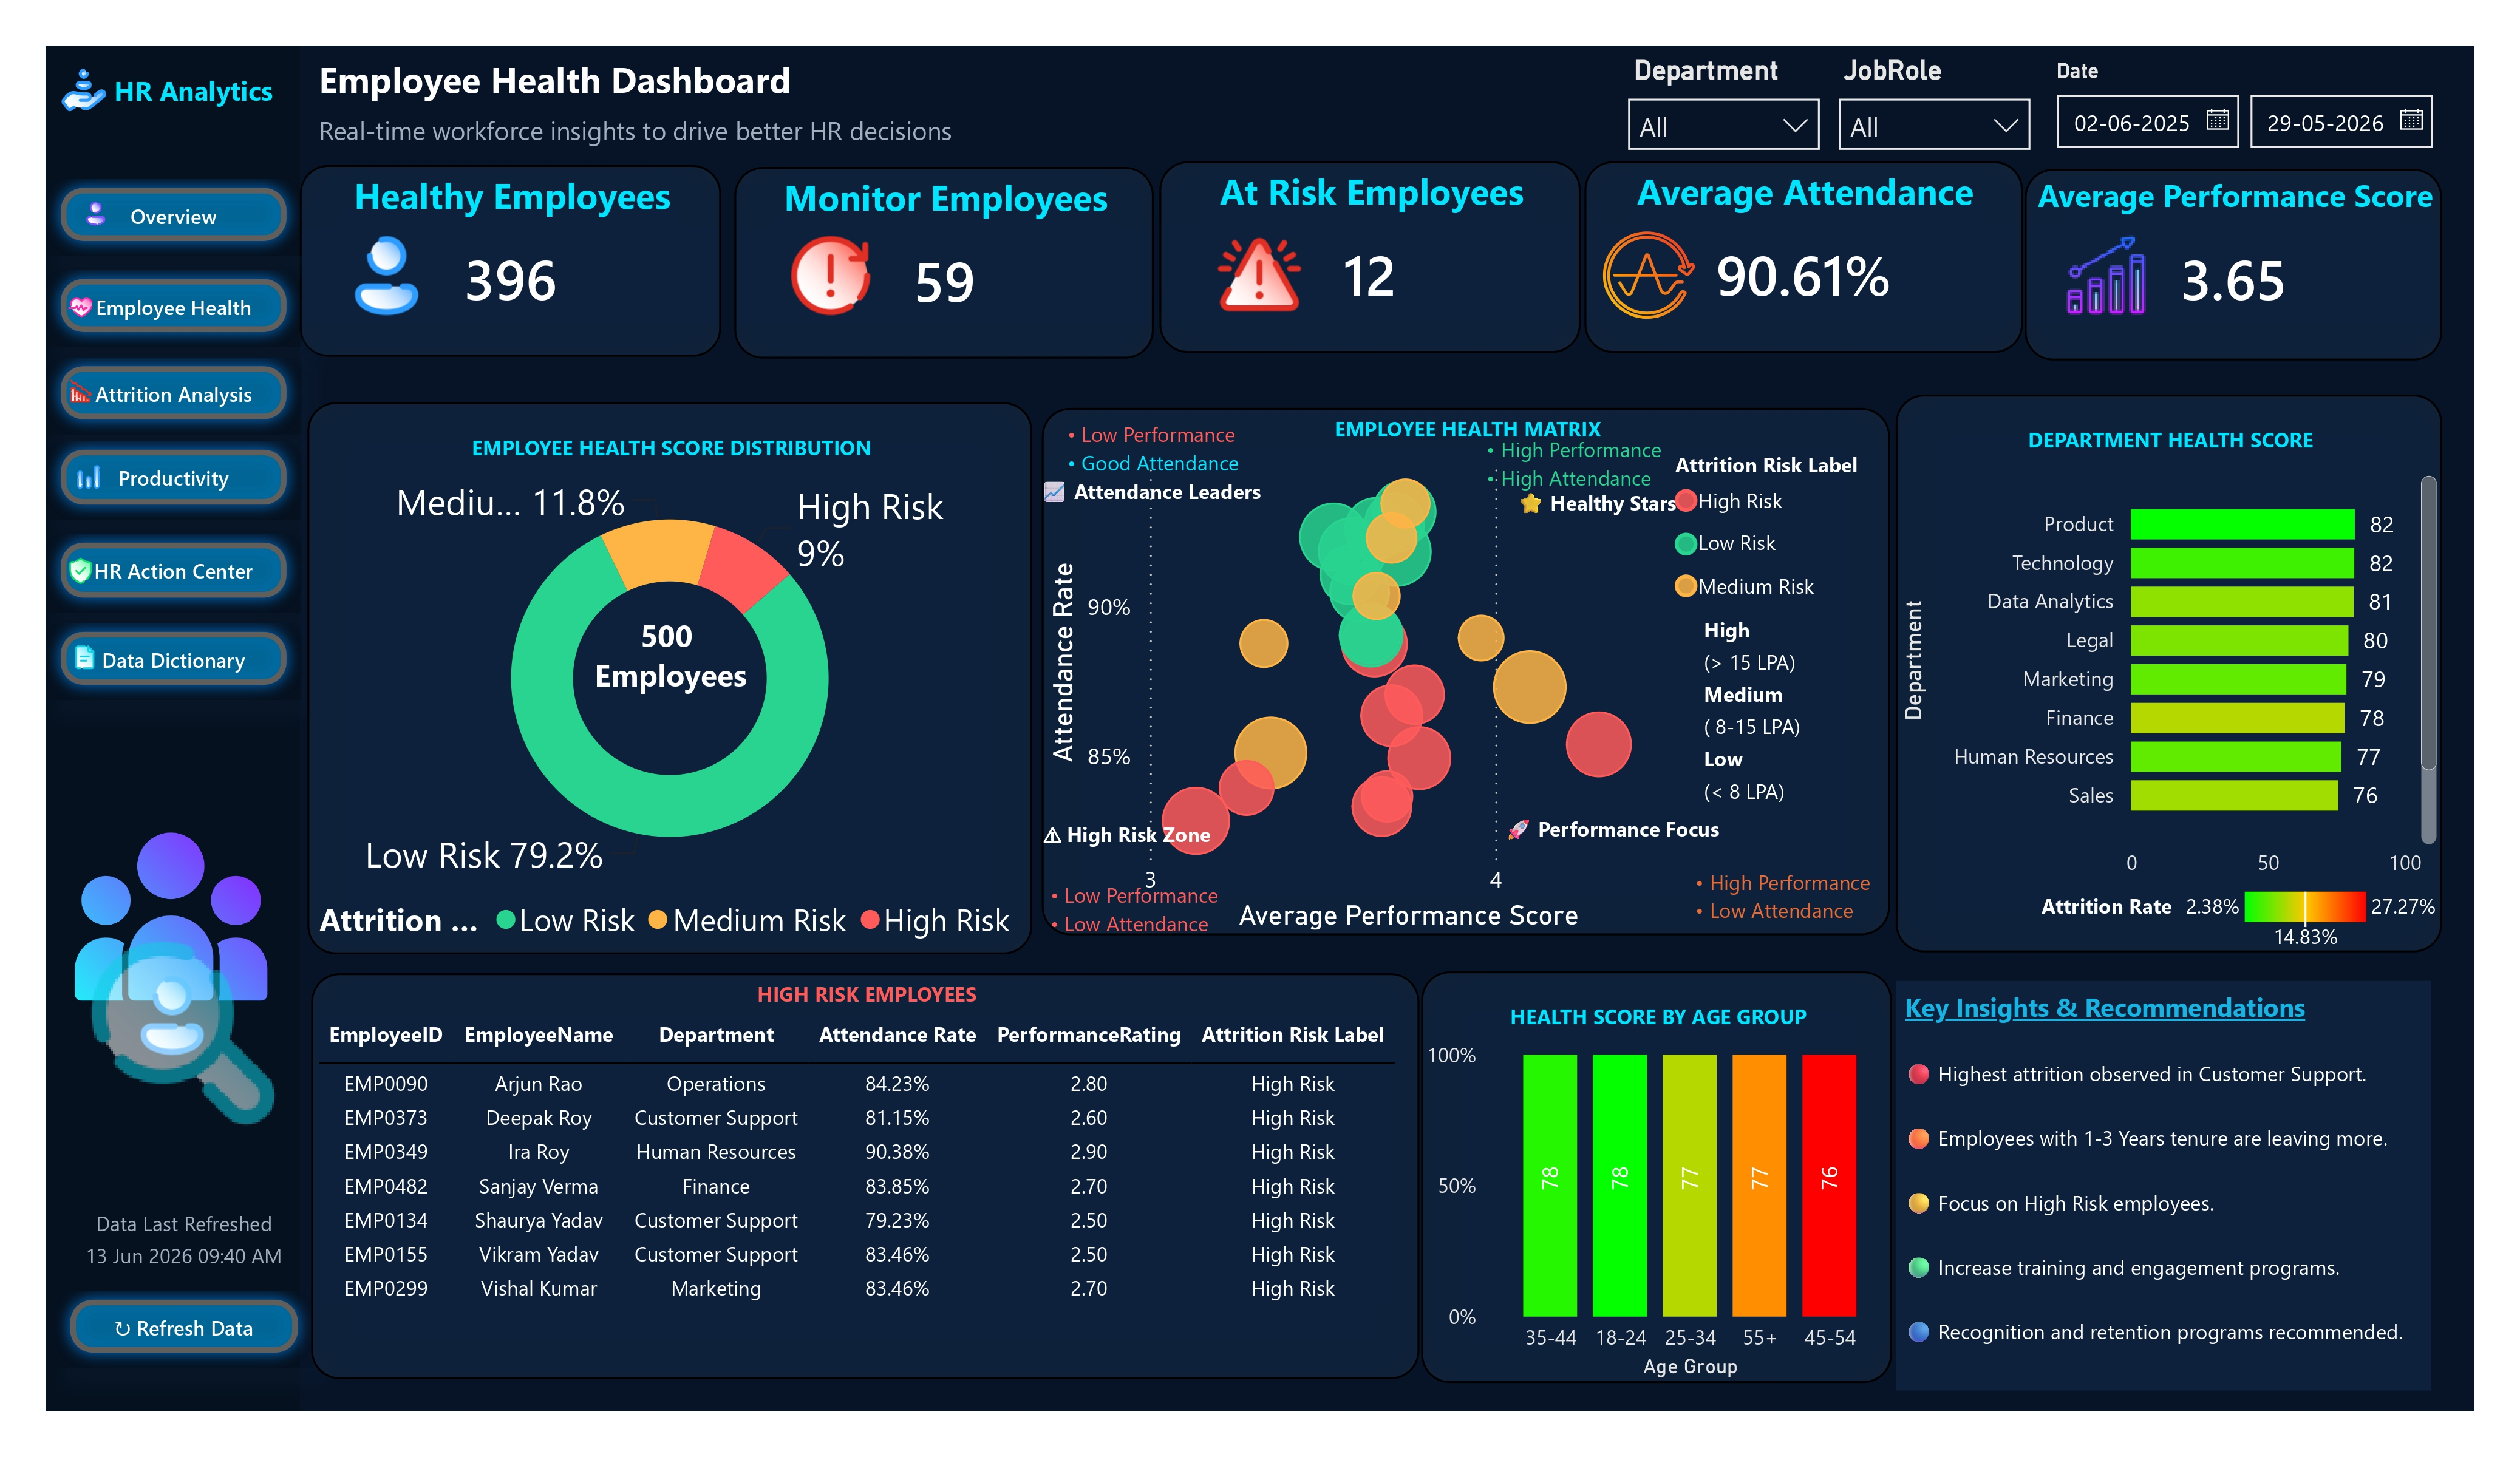

Layout of this report page (visuals, bound fields, positions):
{"tool":"powerbi","page":{"name":"Executive Dashboard","canvas":[1280,720],"ordinal":0},"visuals":[{"type":"shape","box":[0,0,134,720],"z":0},{"type":"cardVisual","title":"Total Employees","fields":{"Data":["Employee KPI Measures.Total Employees"]},"box":[134,62.4,147,84],"z":0,"group":"g1"},{"type":"scatterChart","title":"EMPLOYEE HEALTH MATRIX","fields":{"X":["Performance Measures.Average Performance Score"],"Y":["Attendance Measures.Attendance Rate"],"Size":["Salary & Demographic Measures.Average Salary"],"Series":["employees.Attrition Risk Label"],"Category":["employees.DepartmentID"]},"box":[480,151.2,564.8,223.6],"z":0,"group":"g2"},{"type":"textbox","box":[119.3,0,685.6,38.2],"z":1000},{"type":"cardVisual","title":"Active Employees","fields":{"Data":["Employee KPI Measures.Active Employees"]},"box":[285.6,63.5,146.2,83.8],"z":1000,"group":"g1"},{"type":"textbox","box":[518.2,331.7,124.5,40],"z":1000,"group":"g2"},{"type":"textbox","box":[139.4,31.3,354.5,32.3],"z":2000},{"type":"cardVisual","title":"Attrition Rate","fields":{"Data":["Employee KPI Measures.Attrition Rate"]},"box":[434,61,147.1,84.3],"z":2000,"group":"g1"},{"type":"textbox","box":[518.2,149,120,39.1],"z":2000,"group":"g2"},{"type":"group","id":"g1","title":"Group 1","box":[134,61,897.1,87.8],"z":3000},{"type":"cardVisual","title":"Attendance Rate","fields":{"Data":["Attendance Measures.Attendance Rate"]},"box":[582.6,61,152.7,84.3],"z":3000,"group":"g1"},{"type":"textbox","box":[827.3,149.9,121.8,40],"z":3000,"group":"g2"},{"type":"tableEx","title":"CRITICAL DEPARTMENTS ALERT","fields":{"Values":["departments.Department","Employee KPI Measures.Attrition Rate"]},"box":[1046,64,214,182],"z":4000},{"type":"cardVisual","title":"Average Performance Score","fields":{"Data":["Performance Measures.Average Performance Score"]},"box":[736.2,64.3,145.6,84.4],"z":4000,"group":"g1"},{"type":"donutChart","title":"EMPLOYEE HEALTH SCORE DISTRIBUTION","fields":{"Category":["employees.Attrition Risk Label"],"Y":["Employee KPI Measures.Total Employees"]},"box":[135,152.5,340,223.3],"z":4000,"group":"g3"},{"type":"textbox","box":[820,331.7,121.8,41.8],"z":4000,"group":"g2"},{"type":"clusteredBarChart","title":"ATTRITION BY DEPARTMENT","fields":{"Y":["Employee KPI Measures.Attrition Rate"],"Category":["departments.Department"]},"box":[396.5,378.6,316.2,171.2],"z":4000,"group":"g4"},{"type":"clusteredColumnChart","title":"ATTRITION BY TENURE","fields":{"Y":["Employee KPI Measures.Attrition Rate"],"Category":["employees.Tenure Band"]},"box":[714.6,378.6,275.2,171.8],"z":4000,"group":"g5"},{"type":"cardVisual","title":"Estimated Attrition Risk %","fields":{"Data":["Unique Dashboard Measures.Estimated Attrition Risk %"]},"box":[884.7,63.9,146.4,84.3],"z":5000,"group":"g1"},{"type":"textbox","box":[930,246.3,108.2,122.7],"z":5000,"group":"g2"},{"type":"lineChart","title":"Attrition Rate Trend","fields":{"Category":["DateTable.Month"],"Y":["Employee KPI Measures.Attrition Rate"]},"box":[138.4,378.6,252.9,171.8],"z":5000},{"type":"group","id":"g2","title":"Group 2","box":[480,149,564.8,225.9],"z":6000},{"type":"shape","box":[943.8,257.1,21.2,21.2],"z":6000,"group":"g2"},{"type":"textbox","box":[373,265.7,96.7,104.7],"z":7000,"group":"g3"},{"type":"shape","box":[942.5,294,21.2,20.6],"z":7000,"group":"g2"},{"type":"clusteredBarChart","title":"TOP ATTRITION REASONS","fields":{"Category":["attrition_reasons.AttritionReason"],"Y":["Employee KPI Measures.Attrition Count"]},"box":[989.4,377,291.1,173.4],"z":7000},{"type":"group","id":"g3","title":"Group 3","box":[135,152.5,340,223.3],"z":8000},{"type":"shape","box":[357.3,270.1,22.1,18.8],"z":8000,"group":"g3"},{"type":"shape","box":[942.5,331.5,21.2,19.4],"z":8000,"group":"g2"},{"type":"image","box":[293.6,96.4,22.1,20.7],"z":9000},{"type":"textbox","box":[193.3,256.2,114.2,49.2],"z":9000,"group":"g3"},{"type":"image","box":[139.3,95,21.4,20.7],"z":10000},{"type":"shape","box":[357.8,296.9,22.1,18.2],"z":10000,"group":"g3"},{"type":"image","box":[434.3,96.4,21.4,20.7],"z":11000},{"type":"shape","box":[355.4,324.9,22.1,18.8],"z":11000,"group":"g3"},{"type":"image","box":[587.9,95.7,21.4,20.7],"z":12000},{"type":"image","box":[742.9,102.9,26.4,17.1],"z":13000},{"type":"image","box":[887.9,100,21.4,20],"z":14000},{"type":"image","box":[1054.2,70,15.2,16.1],"z":15000},{"type":"group","id":"g4","title":"Group 3","box":[396.5,378.6,316.2,171.2],"z":16000},{"type":"group","id":"g5","title":"Group 3","box":[714.6,378.6,275.2,171.8],"z":17000},{"type":"slicer","fields":{"Values":["departments.Department"]},"box":[823.9,0,120.9,60.4],"z":18000},{"type":"slicer","fields":{"Values":["employees.JobRole"]},"box":[935.3,0,120.9,60.4],"z":19000},{"type":"slicer","fields":{"Values":["DateTable.Date"]},"box":[1046.7,2.2,227.8,60],"z":20000},{"type":"pivotTable","title":"ATTRITION RISK MATRIX","fields":{"Rows":["employees.Salary Band"],"Values":["Employee KPI Measures.Total Employees"],"Columns":["performance.Performance Band"]},"box":[1042.5,246.2,221.2,132.5],"z":21000},{"type":"tableEx","title":"EMPLOYEES NEED TRAINING","fields":{"Values":["performance.EmployeeID","employees.EmployeeName","departments.Department","performance.PerformanceRating"]},"box":[148,552,381,161],"z":22000},{"type":"tableEx","title":"TOP PROMOTION CANDIDATES","fields":{"Values":["performance.EmployeeID","employees.EmployeeName","departments.Department","performance.PerformanceRating"]},"box":[529,552,360,161],"z":23000},{"type":"tableEx","title":"HIGH ATTRITION RISK EMPLOYEES","fields":{"Values":["performance.EmployeeID","employees.EmployeeName","departments.Department","employees.Attrition Risk Label"]},"box":[900,550,379,161],"z":24000},{"type":"textbox","box":[29.4,8.9,97.2,30],"z":25000},{"type":"actionButton","box":[0,66.8,135.2,44.5],"z":26000},{"type":"actionButton","box":[0,114.5,135.2,44.5],"z":27000},{"type":"actionButton","box":[0,160.7,135.2,44.5],"z":28000},{"type":"actionButton","box":[0,205.2,135.2,44.5],"z":29000},{"type":"actionButton","box":[0,254.5,135.2,44.5],"z":30000},{"type":"actionButton","box":[0,300.6,135.2,44.5],"z":31000},{"type":"image","box":[12.8,396.8,106.7,124.4],"z":32000},{"type":"image","box":[42.2,480,50,62.2],"z":33000},{"type":"image","box":[11.1,457.8,123.3,125.6],"z":34000},{"type":"image","box":[19,81.4,14.8,14.8],"z":35000},{"type":"image","box":[11.4,130.9,15.5,14.5],"z":36000},{"type":"image","box":[11.4,174.8,14.8,15.2],"z":37000},{"type":"image","box":[14.3,220.5,15.2,14.8],"z":38000},{"type":"image","box":[11,269,15.2,14.8],"z":39000},{"type":"image","box":[12.9,314.3,14.8,15.2],"z":40000},{"type":"image","box":[7.2,9.4,25.6,28.9],"z":42000},{"type":"actionButton","box":[5.3,652.7,135.3,44.7],"z":43000},{"type":"textbox","box":[11.4,606.4,123.6,50.7],"z":44000},{"type":"cardVisual","fields":{"Data":["KPI Trend Measures.Hire Trend Text"]},"box":[140.8,110.8,140,46.2],"z":45000},{"type":"cardVisual","fields":{"Data":["KPI Trend Measures.Employee Growth %"]},"box":[286.9,110.8,143.1,46.9],"z":46000},{"type":"cardVisual","fields":{"Data":["KPI Trend Measures.Attrition Trend Text"]},"box":[433.8,109.2,143.8,46.9],"z":47000},{"type":"cardVisual","fields":{"Data":["KPI Trend Measures.Attendance Trend Text"]},"box":[587.7,109.2,147.7,46.9],"z":48000},{"type":"cardVisual","fields":{"Data":["KPI Trend Measures.Performance Trend Text"]},"box":[743.1,110,138.5,46.9],"z":49000},{"type":"cardVisual","fields":{"Data":["KPI Trend Measures.Risk Trend Text"]},"box":[888.3,111.1,140,47.8],"z":50000}]}

Visuals, with their boxes on the page's 1280x720 design canvas (x1, y1, x2, y2). These are canvas units, not pixel positions in the 2520x1457 screenshot, which may show the page scaled, cropped or inside an application window:
shape: box(0, 0, 134, 720)
"Total Employees" cardVisual: box(134, 62, 281, 146)
"EMPLOYEE HEALTH MATRIX" scatterChart: box(480, 151, 1045, 375)
textbox: box(119, 0, 805, 38)
"Active Employees" cardVisual: box(286, 64, 432, 147)
textbox: box(518, 332, 643, 372)
textbox: box(139, 31, 494, 64)
"Attrition Rate" cardVisual: box(434, 61, 581, 145)
textbox: box(518, 149, 638, 188)
"Group 1" group: box(134, 61, 1031, 149)
"Attendance Rate" cardVisual: box(583, 61, 735, 145)
textbox: box(827, 150, 949, 190)
"CRITICAL DEPARTMENTS ALERT" tableEx: box(1046, 64, 1260, 246)
"Average Performance Score" cardVisual: box(736, 64, 882, 149)
"EMPLOYEE HEALTH SCORE DISTRIBUTION" donutChart: box(135, 152, 475, 376)
textbox: box(820, 332, 942, 374)
"ATTRITION BY DEPARTMENT" clusteredBarChart: box(396, 379, 713, 550)
"ATTRITION BY TENURE" clusteredColumnChart: box(715, 379, 990, 550)
"Estimated Attrition Risk %" cardVisual: box(885, 64, 1031, 148)
textbox: box(930, 246, 1038, 369)
"Attrition Rate Trend" lineChart: box(138, 379, 391, 550)
"Group 2" group: box(480, 149, 1045, 375)
shape: box(944, 257, 965, 278)
textbox: box(373, 266, 470, 370)
shape: box(942, 294, 964, 315)
"TOP ATTRITION REASONS" clusteredBarChart: box(989, 377, 1280, 550)
"Group 3" group: box(135, 152, 475, 376)
shape: box(357, 270, 379, 289)
shape: box(942, 332, 964, 351)
image: box(294, 96, 316, 117)
textbox: box(193, 256, 308, 305)
image: box(139, 95, 161, 116)
shape: box(358, 297, 380, 315)
image: box(434, 96, 456, 117)
shape: box(355, 325, 378, 344)
image: box(588, 96, 609, 116)
image: box(743, 103, 769, 120)
image: box(888, 100, 909, 120)
image: box(1054, 70, 1069, 86)
"Group 3" group: box(396, 379, 713, 550)
"Group 3" group: box(715, 379, 990, 550)
slicer - departments.Department: box(824, 0, 945, 60)
slicer - employees.JobRole: box(935, 0, 1056, 60)
slicer - DateTable.Date: box(1047, 2, 1274, 62)
"ATTRITION RISK MATRIX" pivotTable: box(1042, 246, 1264, 379)
"EMPLOYEES NEED TRAINING" tableEx: box(148, 552, 529, 713)
"TOP PROMOTION CANDIDATES" tableEx: box(529, 552, 889, 713)
"HIGH ATTRITION RISK EMPLOYEES" tableEx: box(900, 550, 1279, 711)
textbox: box(29, 9, 127, 39)
actionButton: box(0, 67, 135, 111)
actionButton: box(0, 114, 135, 159)
actionButton: box(0, 161, 135, 205)
actionButton: box(0, 205, 135, 250)
actionButton: box(0, 254, 135, 299)
actionButton: box(0, 301, 135, 345)
image: box(13, 397, 120, 521)
image: box(42, 480, 92, 542)
image: box(11, 458, 134, 583)
image: box(19, 81, 34, 96)
image: box(11, 131, 27, 145)
image: box(11, 175, 26, 190)
image: box(14, 220, 30, 235)
image: box(11, 269, 26, 284)
image: box(13, 314, 28, 330)
image: box(7, 9, 33, 38)
actionButton: box(5, 653, 141, 697)
textbox: box(11, 606, 135, 657)
cardVisual - KPI Trend Measures.Hire Trend Text: box(141, 111, 281, 157)
cardVisual - KPI Trend Measures.Employee Growth %: box(287, 111, 430, 158)
cardVisual - KPI Trend Measures.Attrition Trend Text: box(434, 109, 578, 156)
cardVisual - KPI Trend Measures.Attendance Trend Text: box(588, 109, 735, 156)
cardVisual - KPI Trend Measures.Performance Trend Text: box(743, 110, 882, 157)
cardVisual - KPI Trend Measures.Risk Trend Text: box(888, 111, 1028, 159)
